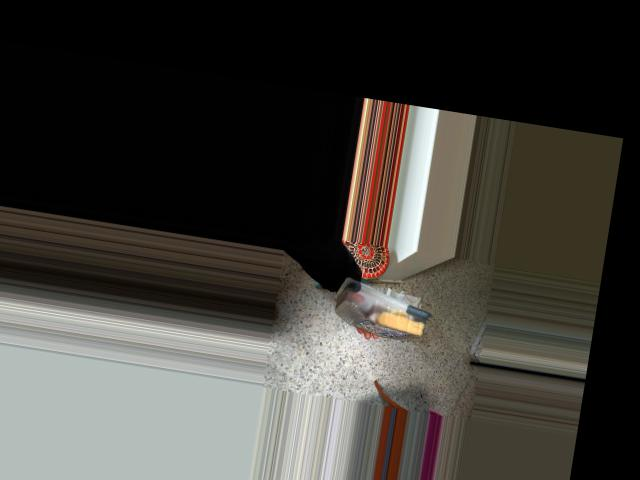cheese: (332, 272, 435, 345)
